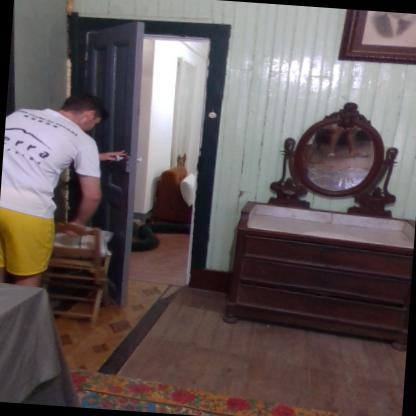semi: (50, 2, 240, 295)
